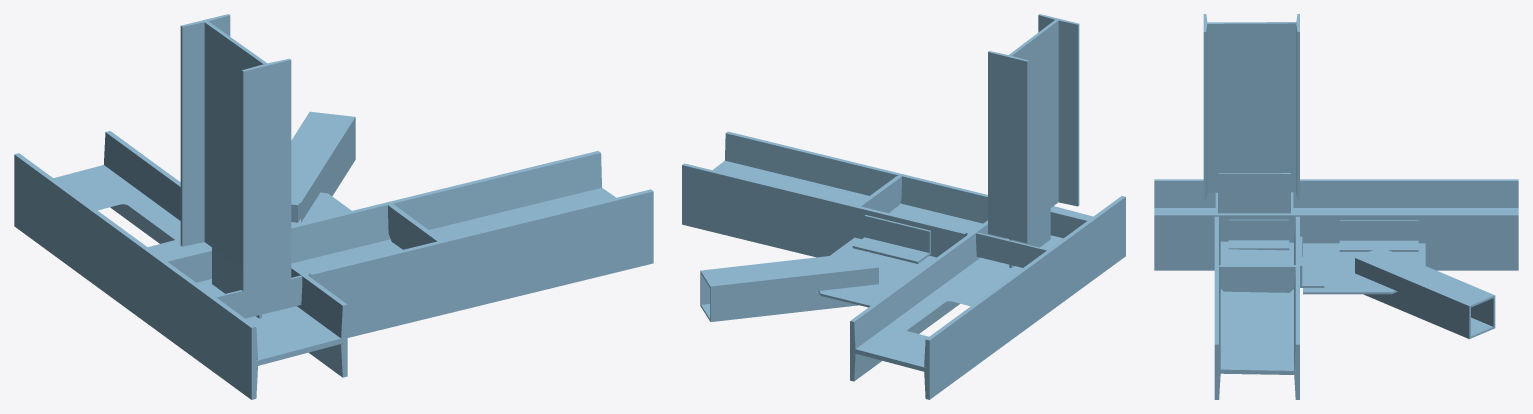
Rendered from steelplates.glb.
3 renders of one model, left to right at view 1: azimuth 30°, elevation 25°; view 2: azimuth 150°, elevation 25°; view 3: azimuth 270°, elevation 25°, orthographic. The views are drawn at different scales.
Size of the model in its own units: 1.64 by 1.06 by 1.52.
